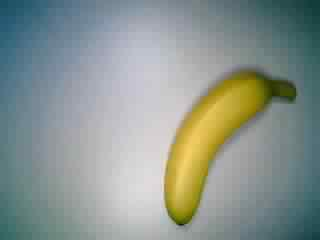banana: (159, 62, 302, 229)
